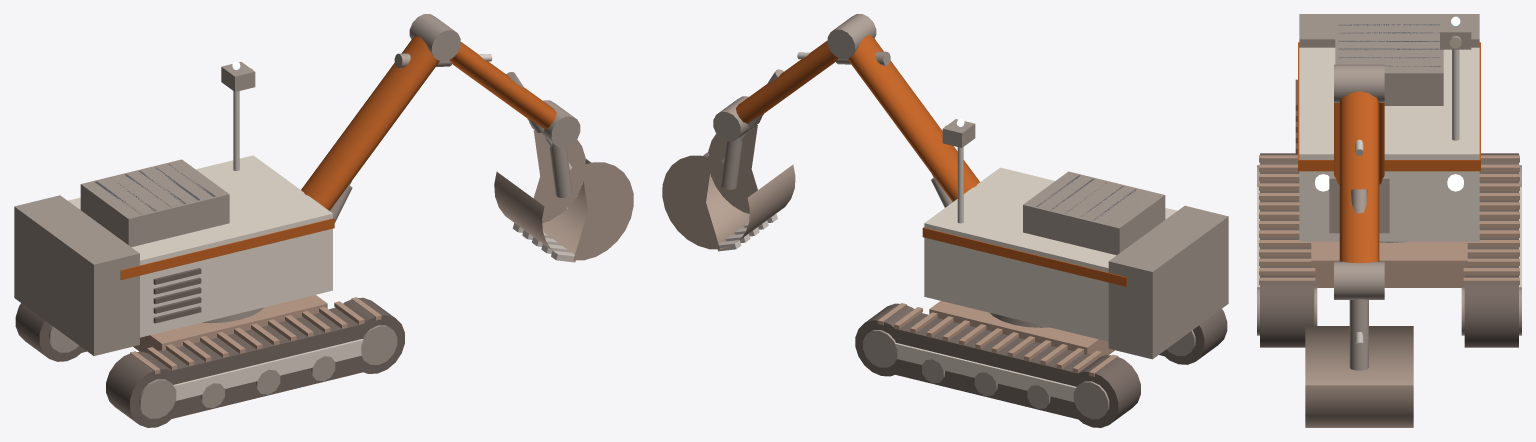
Rendered from V03_regolith_excavator.glb.
The picture shows the model from 3 angles, left to right: view 1: azimuth 30°, elevation 25°; view 2: azimuth 150°, elevation 25°; view 3: azimuth 270°, elevation 25°; orthographic projection. The views are drawn at different scales.
Parts seen in each view (by area): view 1: track_belt, sprocket, object 7, track_pad, sensor_mast; view 2: track_belt, sprocket, object 7, track_pad, sensor_mast; view 3: track_belt, sprocket, track_pad, object 7, sensor_mast, beacon.
Part boxes in pixels (box(x1,y1,x2,y2)): track_belt: box(15, 36, 556, 427); sprocket: box(14, 14, 580, 418); object 7: box(494, 130, 633, 260); track_pad: box(130, 295, 381, 374); sensor_mast: box(233, 54, 575, 262); track_belt: box(736, 35, 1227, 427); sprocket: box(713, 14, 1228, 419); object 7: box(662, 125, 795, 249); track_pad: box(877, 301, 1118, 376); sensor_mast: box(717, 52, 963, 251); track_belt: box(1257, 42, 1521, 347); sprocket: box(1257, 14, 1521, 370); track_pad: box(1259, 155, 1519, 287); object 7: box(1305, 326, 1413, 427); sensor_mast: box(1355, 49, 1459, 343); beacon: box(1315, 16, 1463, 191).
Size of the model in its own units: 5.9 by 3.06 by 2.2.
